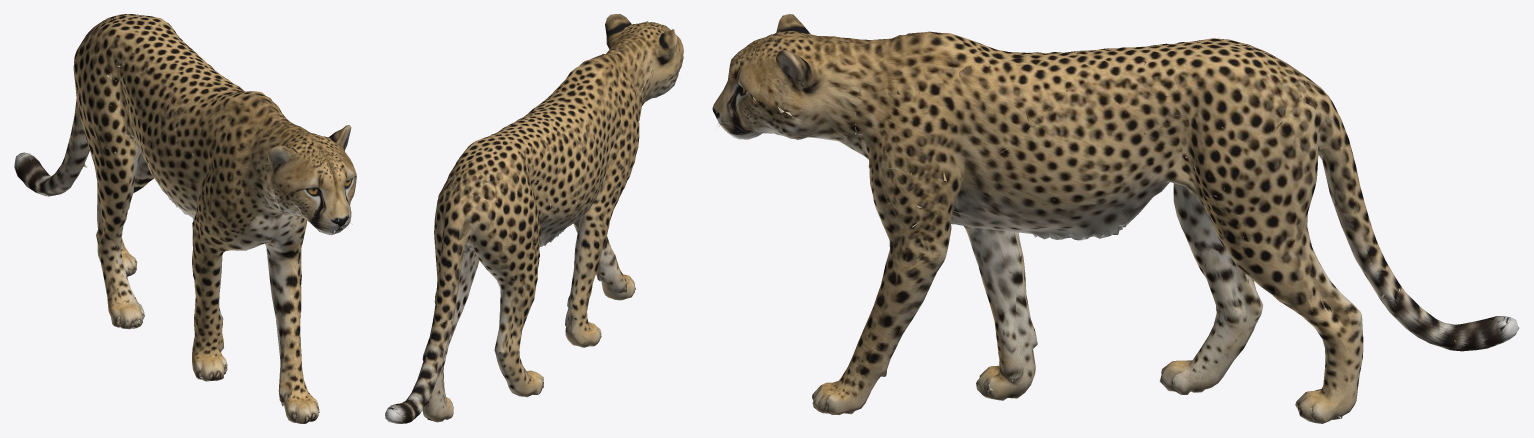
File: gepard.glb
3 renders of one model, left to right at view 1: azimuth 30°, elevation 25°; view 2: azimuth 150°, elevation 25°; view 3: azimuth 270°, elevation 25°, orthographic. The views are drawn at different scales.
Size of the model in its own units: 0.3154 by 0.9771 by 1.9.
Materials: 1 (1 with a texture image).
